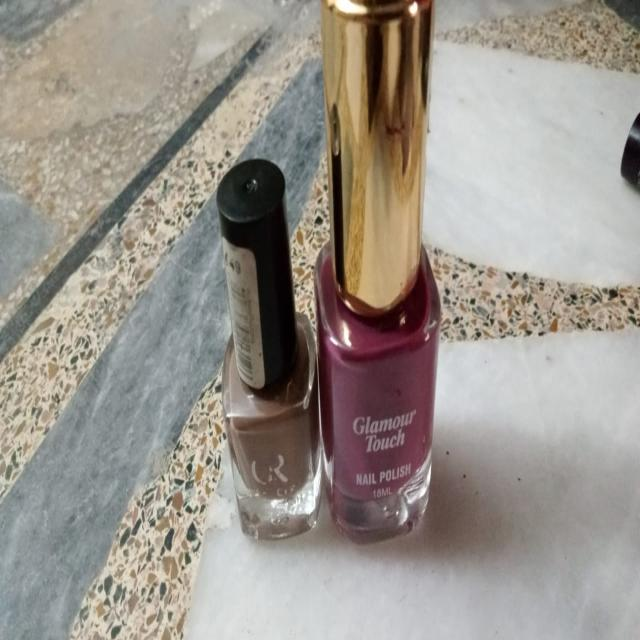nail polish: (310, 0, 460, 542), (212, 139, 326, 560)
